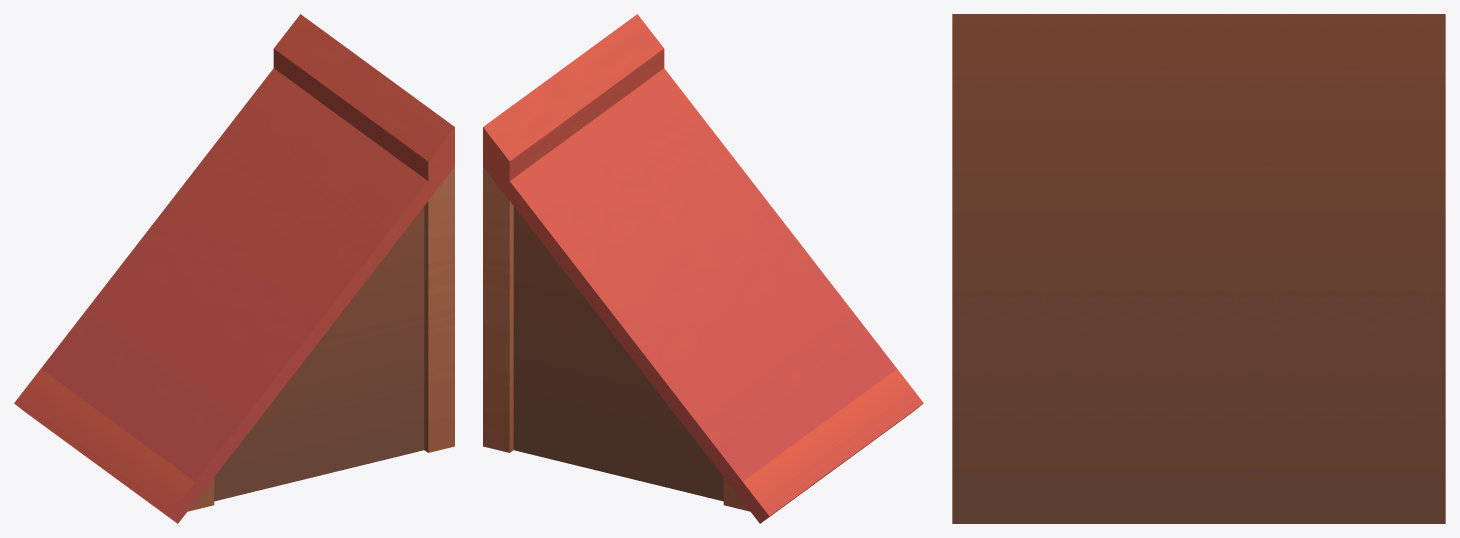
The model's file is roofHigh.fbx.
The picture shows the model from 3 angles, left to right: view 1: azimuth 30°, elevation 25°; view 2: azimuth 150°, elevation 25°; view 3: azimuth 270°, elevation 25°; orthographic projection. The views are drawn at different scales.
Parts seen in each view (by area): view 1: roofHigh; view 2: roofHigh; view 3: roofHigh.
Part boxes in pixels (bbox=[...]): roofHigh: bbox=[14, 14, 454, 523]; roofHigh: bbox=[483, 14, 923, 523]; roofHigh: bbox=[952, 14, 1445, 523].
Size of the model in its own units: 1.07 by 1 by 1.18.
